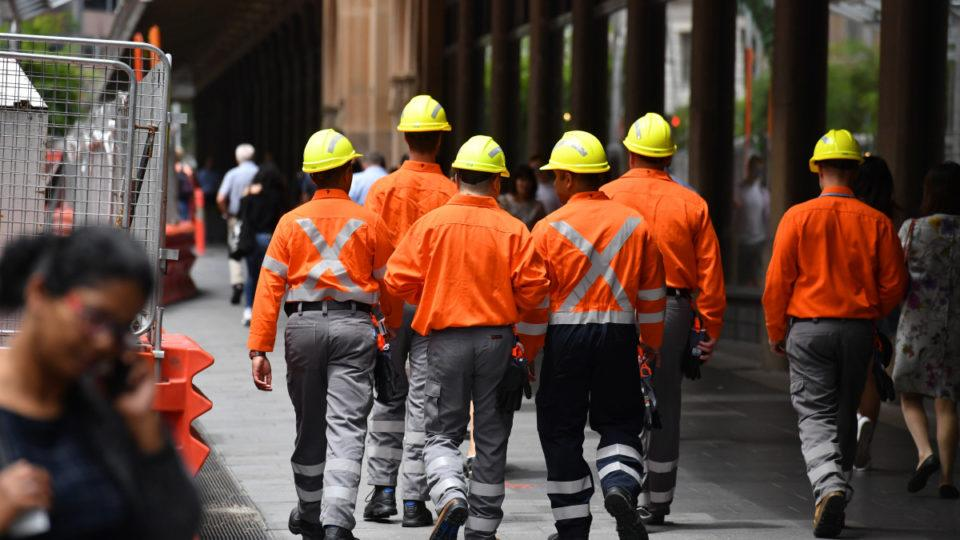helmet: (544, 132, 613, 177), (304, 131, 357, 176), (456, 136, 513, 177), (626, 115, 677, 160), (812, 131, 866, 173), (398, 97, 451, 136)
